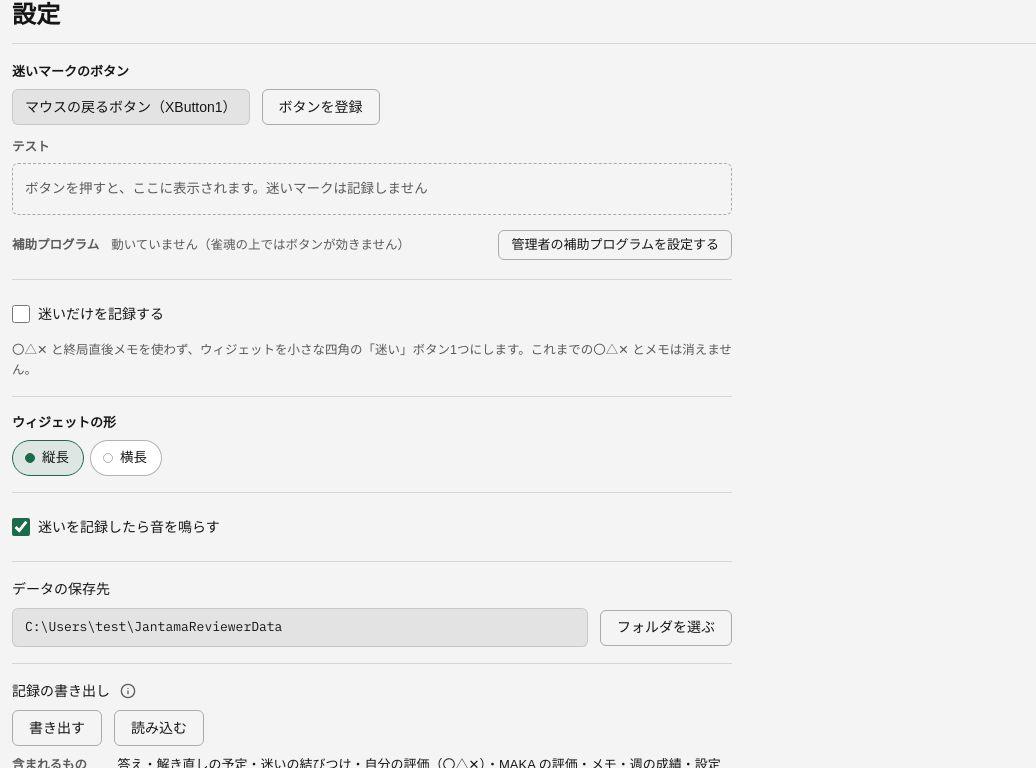
Test: 設定ページ › W-12 設定のチェックで音の入・切を保存する（メニューの「音を鳴らす」と同じ設定）
Expected: the button "ボタンを登録" is shown, [262,89,380,125]
What coordinates should you click on to do the following:
click the checkbox labelled "迷いを記録したら音を鳴らす"
I would click on:
 (21, 527)
Its box is [12,518,30,536].
(page scrolled)
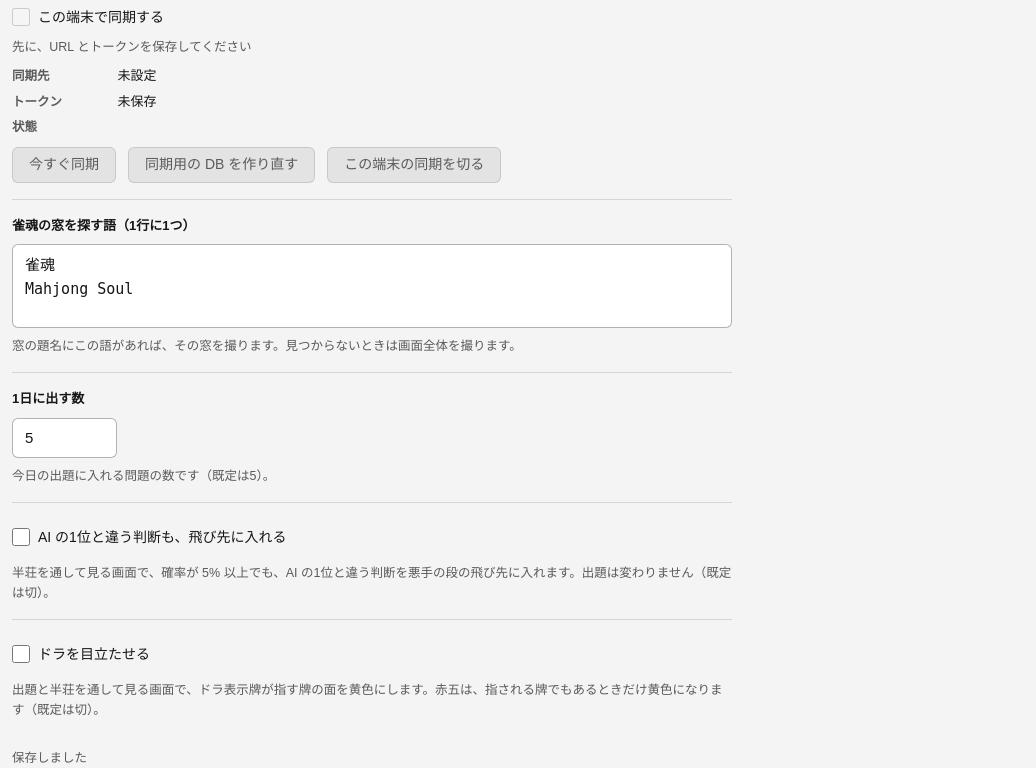
Now the text "保存しました" is shown, box [12,751,87,765]
